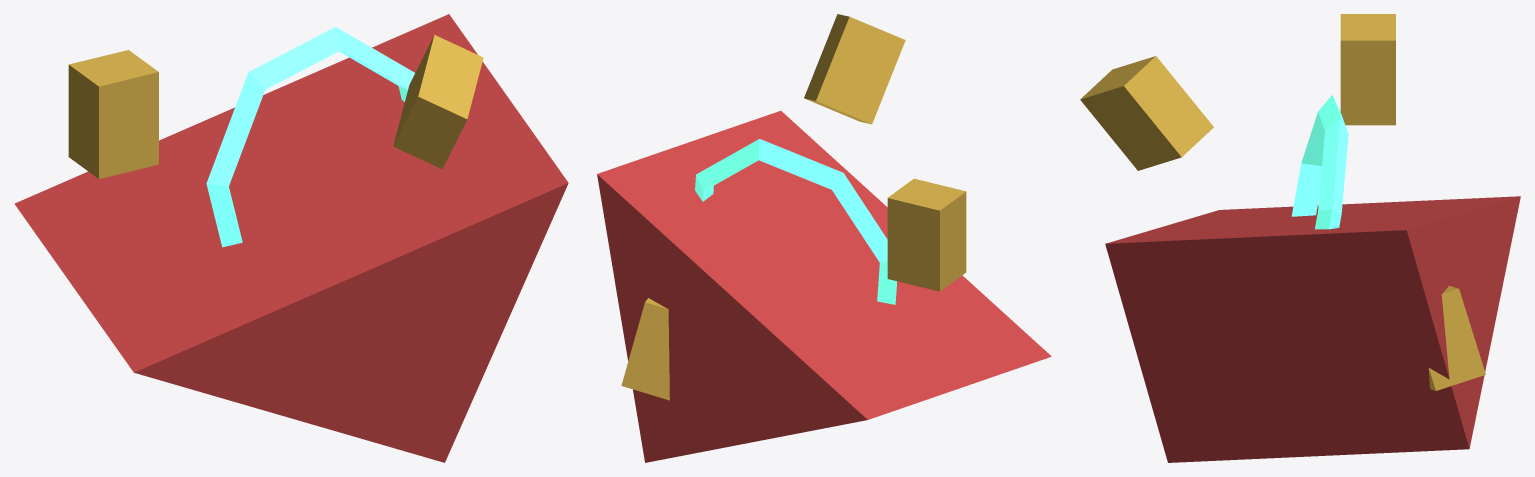
Rendered from damage_effect__damaged.glb.
3 renders of one model, left to right at view 1: azimuth 30°, elevation 25°; view 2: azimuth 150°, elevation 25°; view 3: azimuth 270°, elevation 25°, orthographic. The views are drawn at different scales.
Visible parts, largest first — view 1: ROLE_critical, ROLE_warning, ROLE_interaction; view 2: ROLE_critical, ROLE_warning, ROLE_interaction; view 3: ROLE_critical, ROLE_warning, ROLE_interaction.
Boxes of the visible parts, <box> form: ROLE_critical: <box>14,14,568,462</box>; ROLE_warning: <box>68,35,483,178</box>; ROLE_interaction: <box>206,27,414,247</box>; ROLE_critical: <box>597,110,1051,462</box>; ROLE_warning: <box>621,14,966,400</box>; ROLE_interaction: <box>695,139,897,304</box>; ROLE_critical: <box>1105,196,1520,462</box>; ROLE_warning: <box>1080,14,1485,390</box>; ROLE_interaction: <box>1291,95,1348,229</box>.
Bounding box in the file's own units: 4 × 4 × 4.
